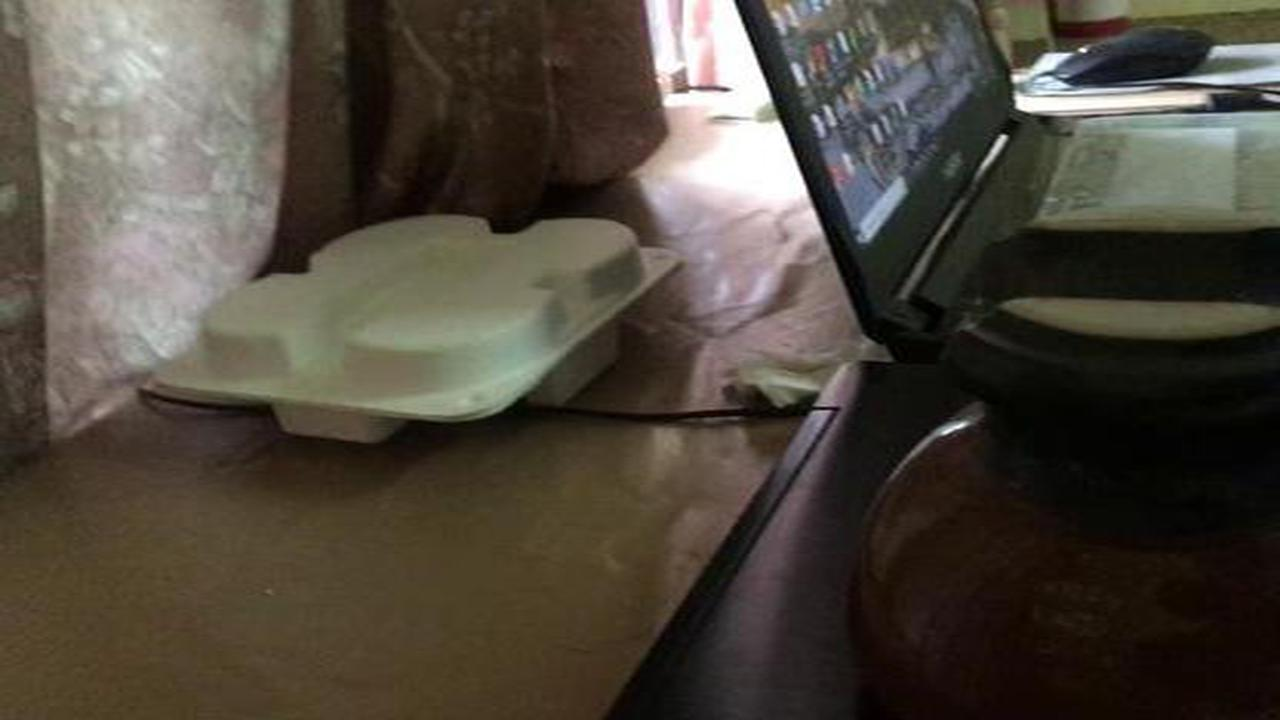insulator_pin: (831, 186, 1277, 719)
